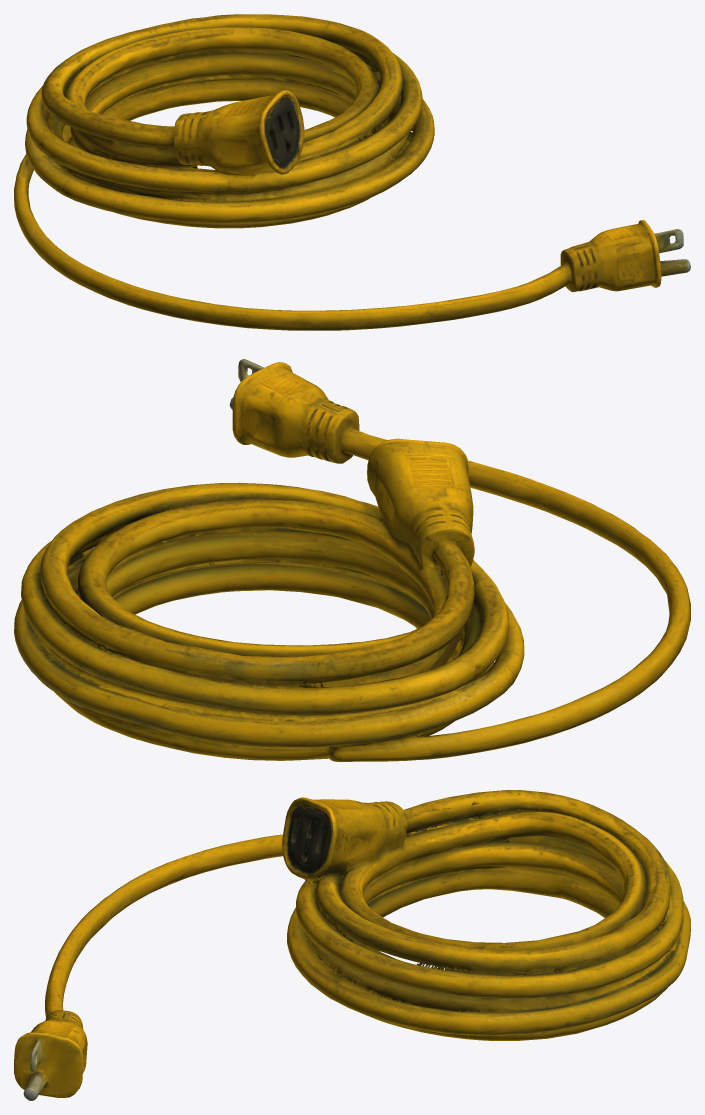
Rendered from Meshy_AI_Coiled_yellow_extensi_0613221047_texture.fbx.
3 views of the same model, one above another, from view 1: azimuth 30°, elevation 25°; view 2: azimuth 150°, elevation 25°; view 3: azimuth 270°, elevation 25° (orthographic). The views are drawn at different scales.
Visible parts, largest first — view 1: Mesh_0; view 2: Mesh_0; view 3: Mesh_0.
Boxes of the visible parts, bbox=[...] form: Mesh_0: bbox=[14, 14, 690, 330]; Mesh_0: bbox=[14, 359, 690, 761]; Mesh_0: bbox=[14, 790, 690, 1100].
Size of the model in its own units: 168 by 51.15 by 191.
1 material, 1 textured.
